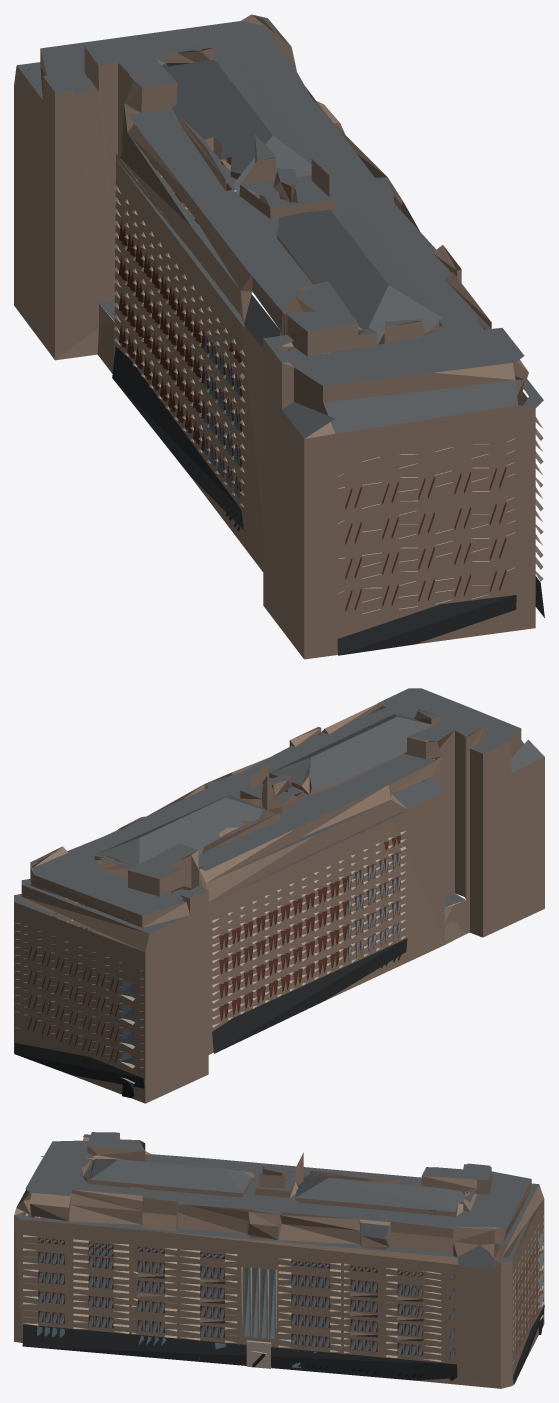
Rendered from de-bazel.lod1.glb.
The picture shows the model from 3 angles, top to bottom: view 1: azimuth 30°, elevation 25°; view 2: azimuth 150°, elevation 25°; view 3: azimuth 270°, elevation 25°; orthographic projection. The views are drawn at different scales.
Visible parts, largest first — view 1: de-bazel; view 2: de-bazel; view 3: de-bazel.
Boxes of the visible parts, x1,y1,x2,y2 form: de-bazel: [14, 14, 544, 659]; de-bazel: [14, 688, 544, 1103]; de-bazel: [14, 1132, 544, 1388].
Bounding box in the file's own units: 50.04 × 40.51 × 107.
